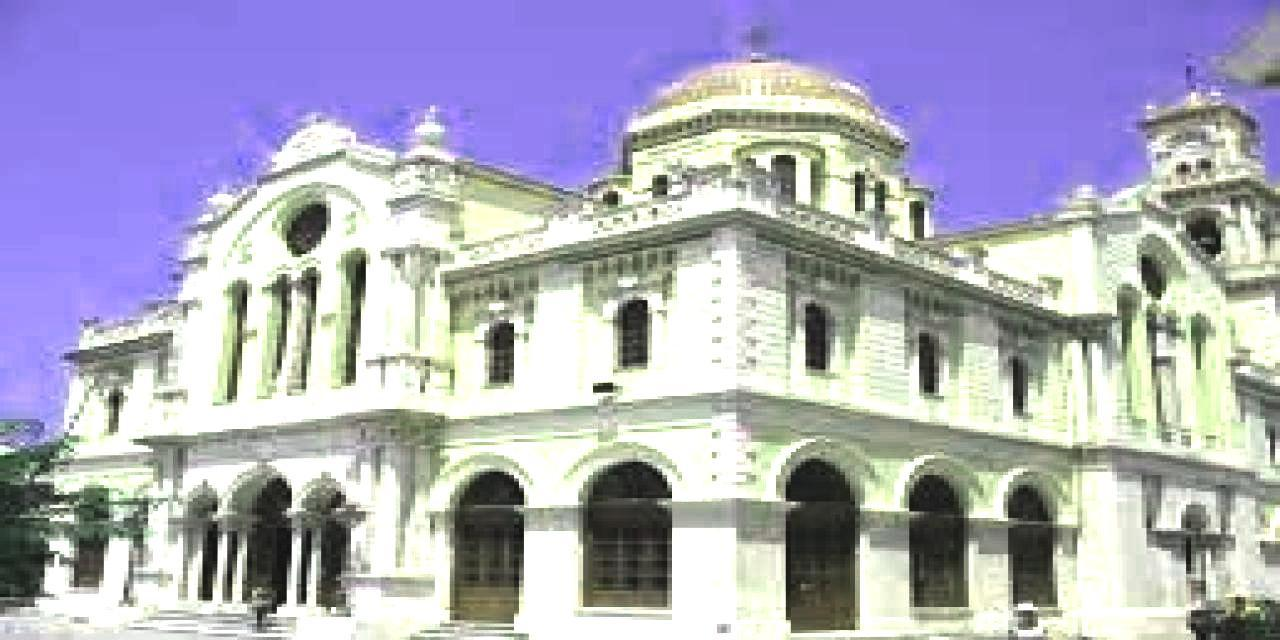Agios Minas: (73, 30, 1280, 640)
